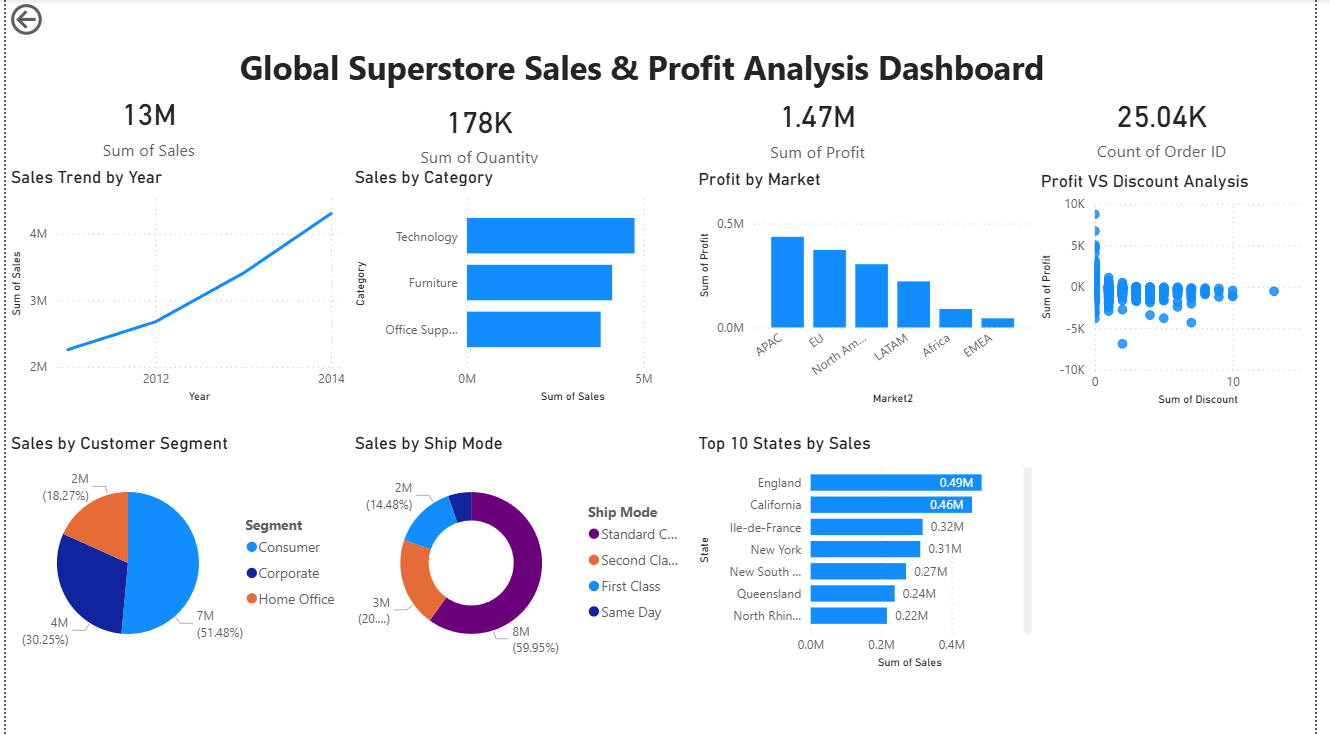

What the dashboard file says about the page in this screenshot:
{"tool":"powerbi","page":{"name":"Page 1","canvas":[1280,720],"ordinal":0},"visuals":[{"type":"card","fields":{"Values":["Sum(Global Superstore.Sales)"]},"box":[0,79.6,279.9,86.4],"z":0},{"type":"actionButton","box":[0,0,100,40],"z":1000},{"type":"card","fields":{"Values":["Sum(Global Superstore.Profit)"]},"box":[654.5,85.1,279.9,78.2],"z":2000},{"type":"card","fields":{"Values":["Sum(Global Superstore.Quantity)"]},"box":[336.2,94.7,253.9,71.4],"z":3000},{"type":"card","fields":{"Values":["Count(Global Superstore.Order ID)"]},"box":[982.5,81,297.8,86.4],"z":4000},{"type":"textbox","box":[223.7,39.8,860.4,54.9],"z":5000},{"type":"lineChart","title":"Sales Trend by Year","fields":{"Category":["Global Superstore.Year"],"Y":["Sum(Global Superstore.Sales)"]},"box":[0,163.3,336.2,236],"z":5001},{"type":"clusteredBarChart","title":"Sales by Category","fields":{"Category":["Global Superstore.Category"],"Y":["Sum(Global Superstore.Sales)"]},"box":[336.2,163.3,336.2,236],"z":5002},{"type":"clusteredColumnChart","title":"Profit by Market","fields":{"Category":["Global Superstore.Market2"],"Y":["Sum(Global Superstore.Profit)"]},"box":[672.4,166,336.2,236],"z":5003},{"type":"pieChart","title":"Sales by Customer Segment","fields":{"Category":["Global Superstore.Segment"],"Y":["Sum(Global Superstore.Sales)"]},"box":[0,424,336,236],"z":5004},{"type":"donutChart","title":"Sales by Ship Mode","fields":{"Category":["Global Superstore.Ship Mode"],"Y":["Sum(Global Superstore.Sales)"]},"box":[336,424,336,236],"z":5005},{"type":"clusteredBarChart","title":"Top 10 States by Sales","fields":{"Category":["Global Superstore.State"],"Y":["Sum(Global Superstore.Sales)"]},"box":[672,424,336,236],"z":5006},{"type":"scatterChart","title":"Profit VS Discount Analysis","fields":{"Category":["Global Superstore.Order ID"],"X":["Sum(Global Superstore.Discount)"],"Y":["Sum(Global Superstore.Profit)"]},"box":[1008,167,272,235],"z":5007}]}

Visuals, with their boxes in screenshot pixels (x1, y1, x2, y2), scaled from the page's 1280x720 canvas onto the 1330x735 screenshot:
card - Sum(Global Superstore.Sales): {"left": 0, "top": 81, "right": 291, "bottom": 169}
actionButton: {"left": 0, "top": 0, "right": 104, "bottom": 41}
card - Sum(Global Superstore.Profit): {"left": 680, "top": 87, "right": 971, "bottom": 167}
card - Sum(Global Superstore.Quantity): {"left": 349, "top": 97, "right": 613, "bottom": 170}
card - Count(Global Superstore.Order ID): {"left": 1021, "top": 83, "right": 1329, "bottom": 171}
textbox: {"left": 232, "top": 41, "right": 1126, "bottom": 97}
"Sales Trend by Year" lineChart: {"left": 0, "top": 167, "right": 349, "bottom": 408}
"Sales by Category" clusteredBarChart: {"left": 349, "top": 167, "right": 699, "bottom": 408}
"Profit by Market" clusteredColumnChart: {"left": 699, "top": 169, "right": 1048, "bottom": 410}
"Sales by Customer Segment" pieChart: {"left": 0, "top": 433, "right": 349, "bottom": 674}
"Sales by Ship Mode" donutChart: {"left": 349, "top": 433, "right": 698, "bottom": 674}
"Top 10 States by Sales" clusteredBarChart: {"left": 698, "top": 433, "right": 1047, "bottom": 674}
"Profit VS Discount Analysis" scatterChart: {"left": 1047, "top": 170, "right": 1329, "bottom": 410}
